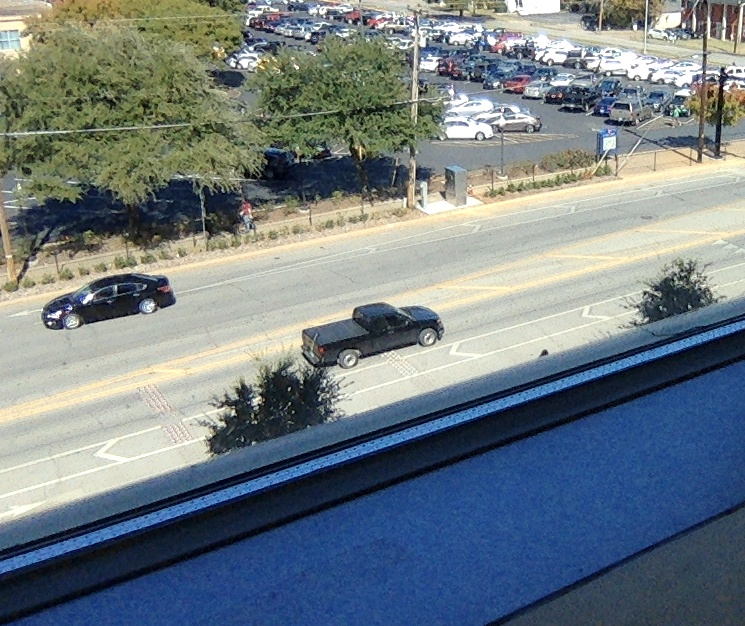car: (300, 300, 445, 370)
